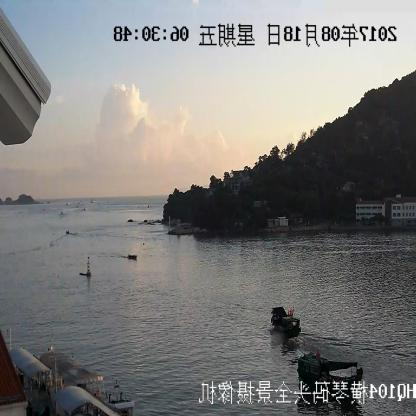Fishing Boat: (297, 355, 361, 382), (270, 307, 302, 336)
